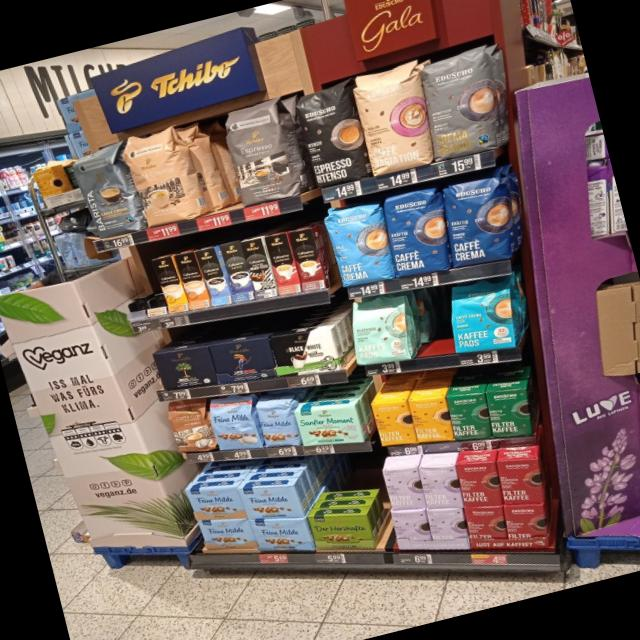BM Gemahlen: (151, 337, 219, 399)
BW Gemahlen: (268, 320, 344, 382)
Barista CC: (68, 143, 144, 243)
CC Mild: (120, 124, 200, 230)
CC Vollmundig: (162, 398, 217, 452)
Espresso Aromatisch: (218, 94, 304, 208)
FM 36 Pads: (206, 394, 264, 451)
FM Bohne: (253, 397, 303, 448)
FM Gemahlen: (237, 482, 306, 520), (184, 482, 248, 521), (248, 517, 315, 552), (197, 518, 259, 550)
Herzhatfe Mundig: (306, 512, 376, 550)
LG Bohne: (208, 330, 278, 391)
SM Gemahlen: (294, 392, 366, 457)
Simo CCMild bigpack: (150, 254, 190, 313)
Simo CCVollmundig bigpack: (173, 250, 211, 309)
Simo Es Brazil: (264, 231, 302, 295)
Simo Es Caramel: (287, 227, 326, 292)
Simo Es Elegant: (239, 236, 278, 299)
Simo Es Kraft: (219, 239, 255, 302)
Simo Es Vanilla: (194, 246, 233, 305)
